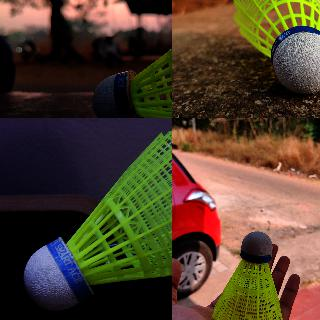shuttlecock: (24, 129, 171, 311), (93, 0, 171, 117), (233, 0, 319, 94), (211, 231, 283, 319)
